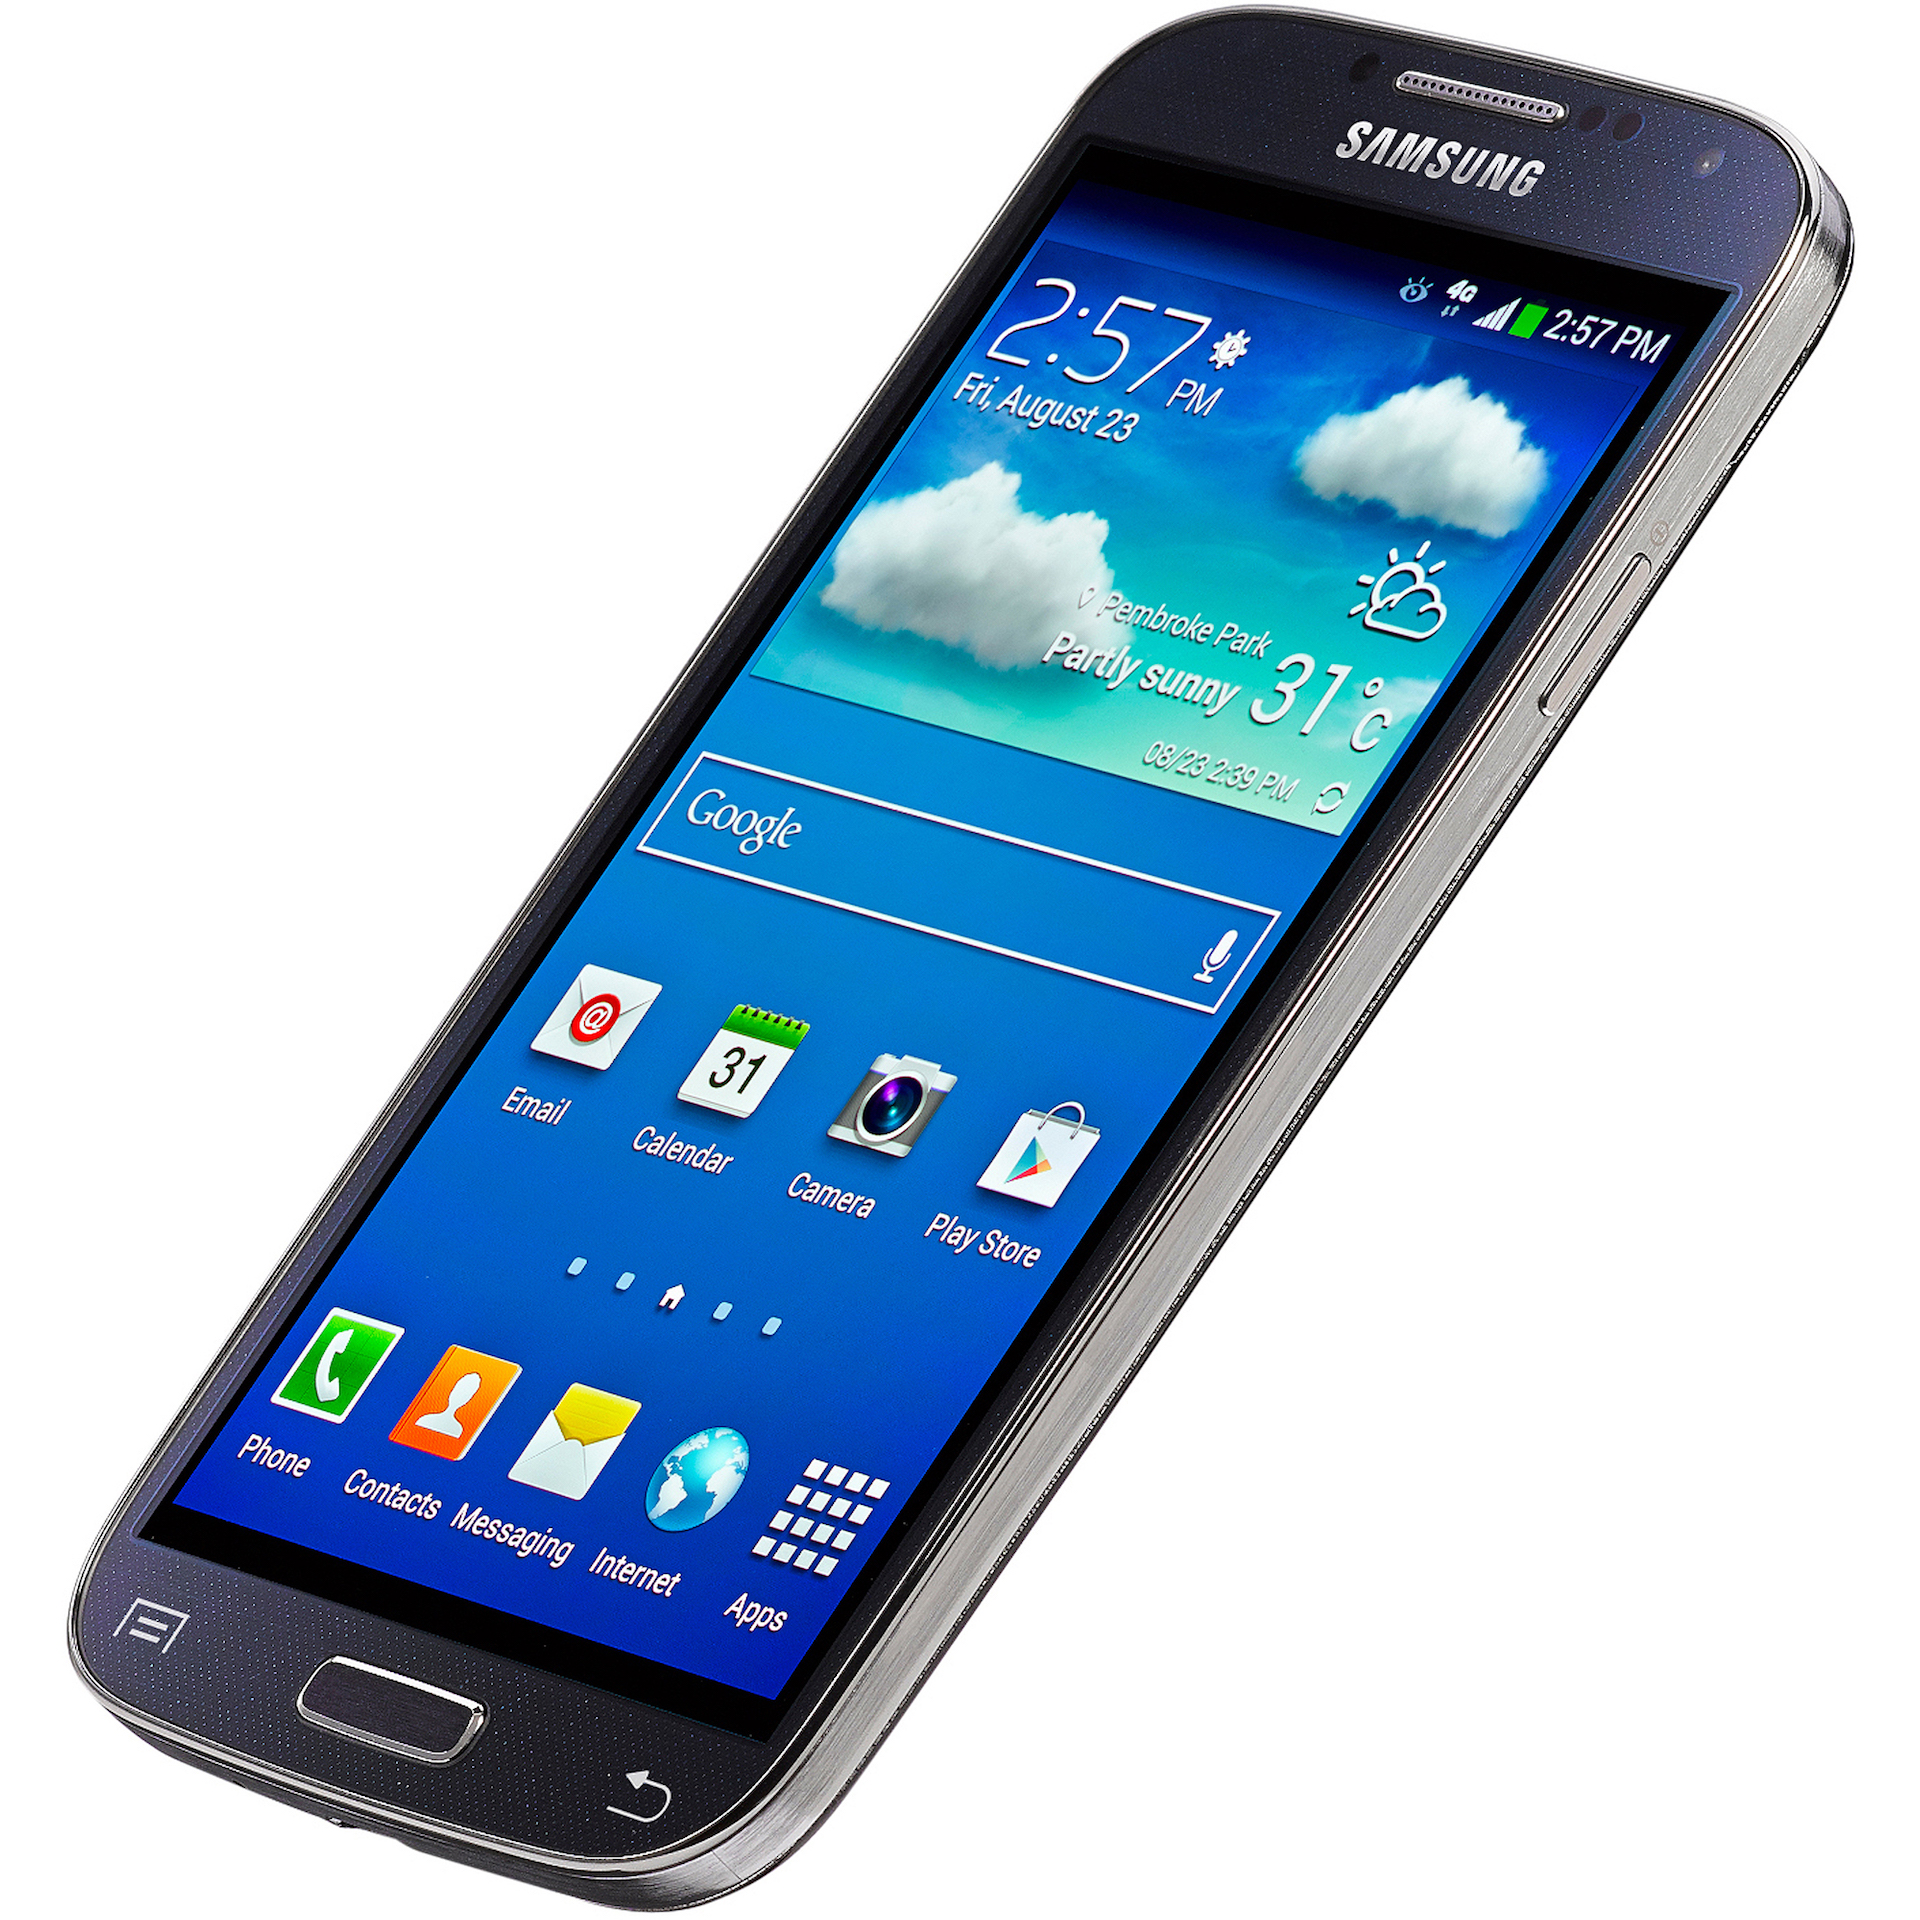smartphone: (63, 2, 1869, 1918)
